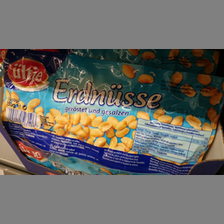nuts: (1, 50, 224, 175)
